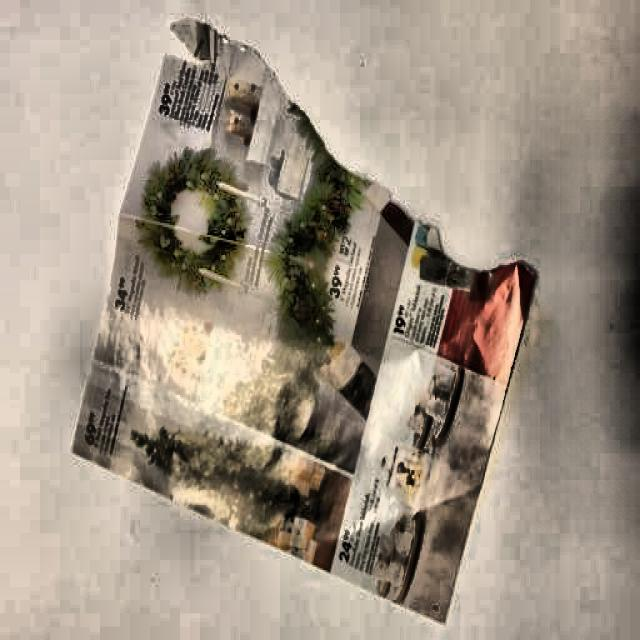paper: (88, 18, 527, 624)
